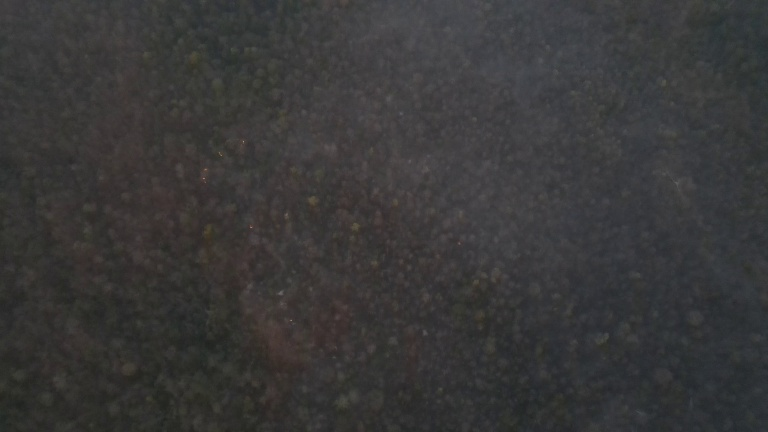fire: (195, 166, 210, 185), (287, 313, 300, 329), (244, 223, 258, 233), (214, 149, 227, 159)
